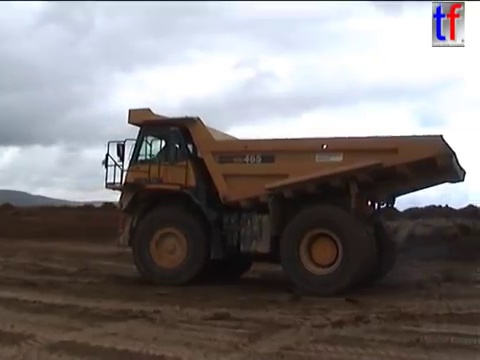truck: (100, 105, 468, 298)
